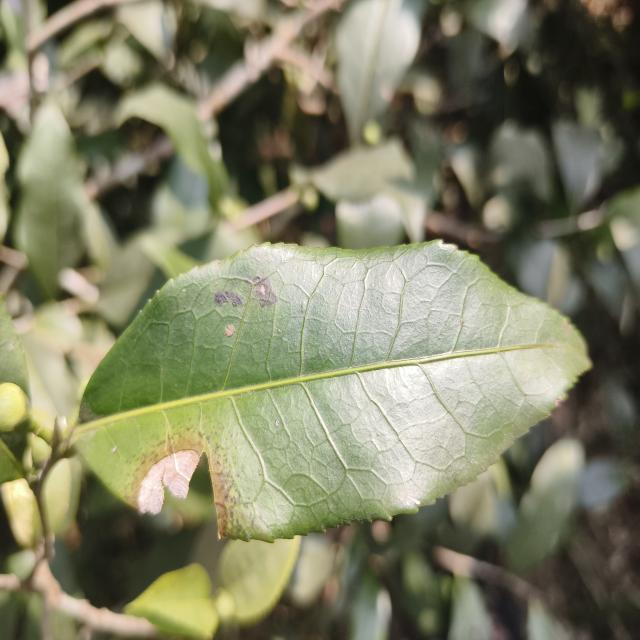Leaf: (72, 241, 590, 541), (12, 101, 88, 299), (336, 0, 423, 143), (508, 439, 584, 571), (219, 536, 301, 626), (125, 564, 219, 640)
